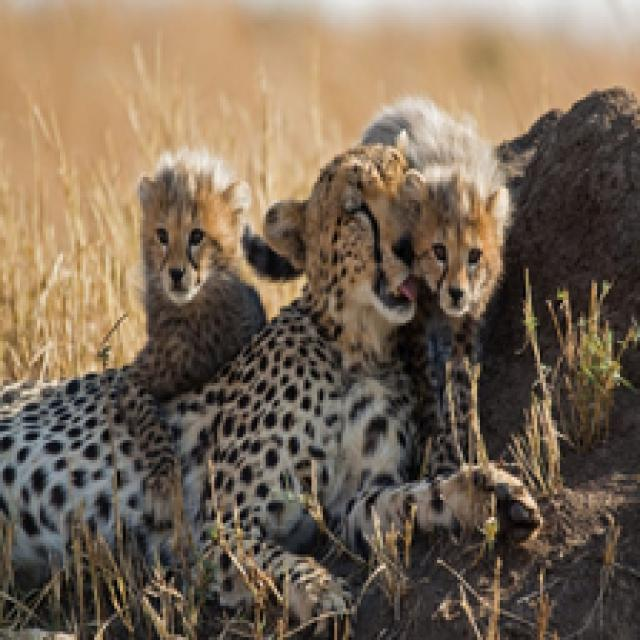cheetah: (1, 139, 532, 566), (121, 162, 262, 357), (417, 150, 534, 317)
